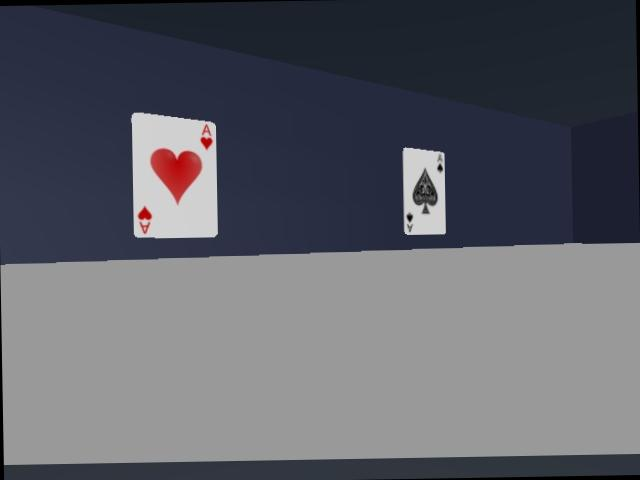heart: (131, 113, 217, 237)
spade: (402, 148, 445, 234)
